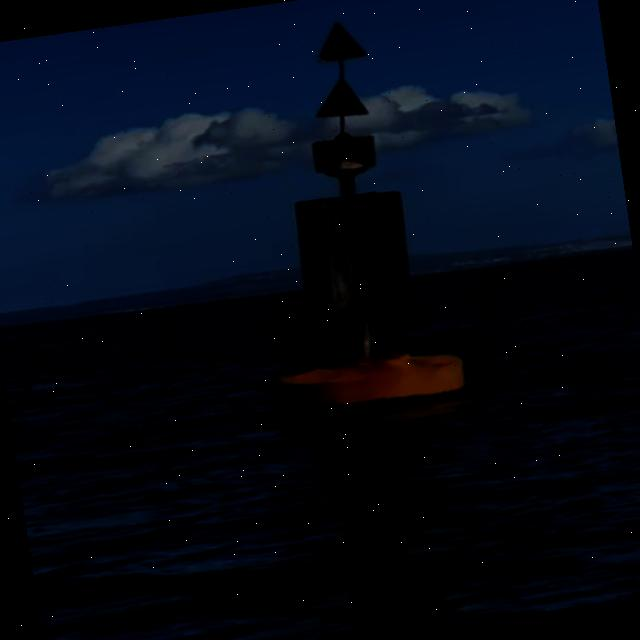marque: (210, 8, 481, 431)
